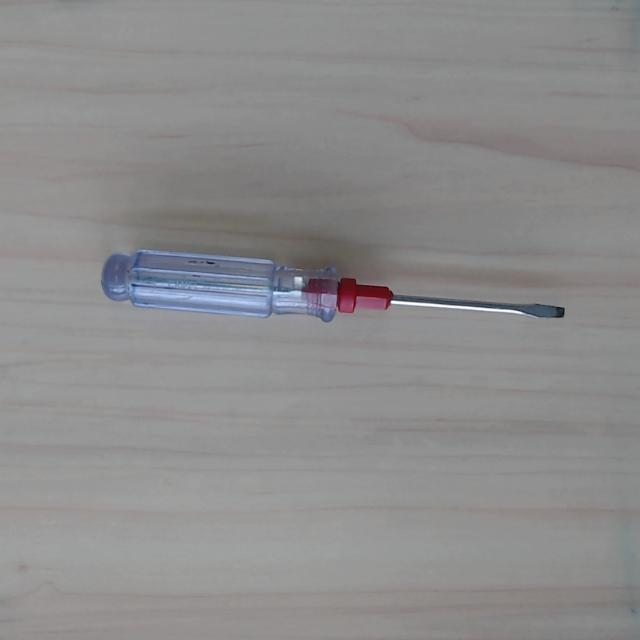Obeng-Kecil: (99, 247, 567, 341)
